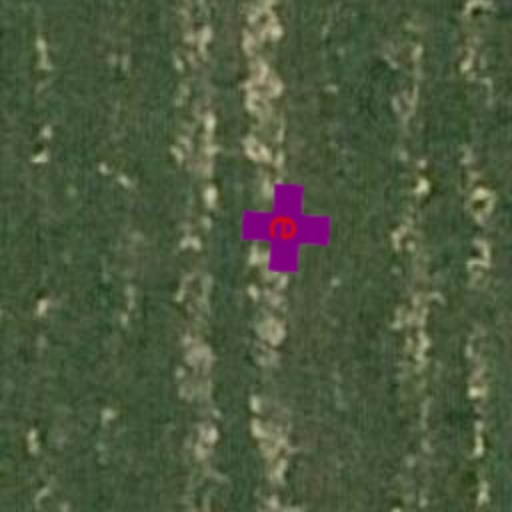cross: (238, 180, 334, 276)
